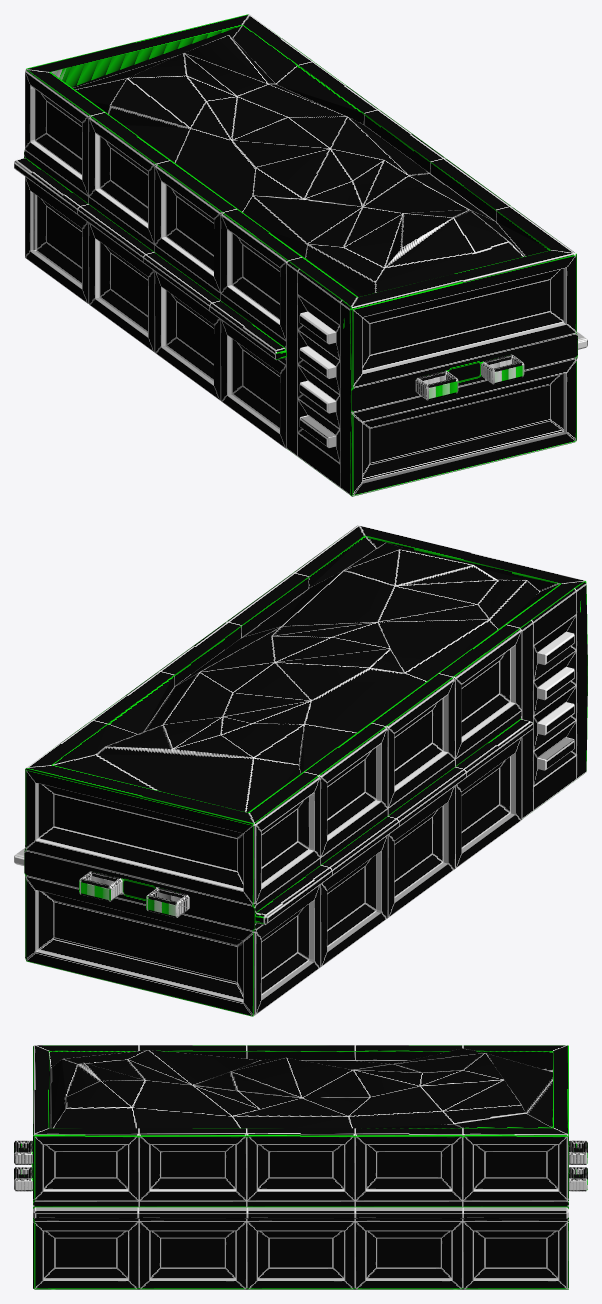
File: Rubbish Container.FBX
The picture shows the model from 3 angles, top to bottom: view 1: azimuth 30°, elevation 25°; view 2: azimuth 150°, elevation 25°; view 3: azimuth 270°, elevation 25°; orthographic projection. The views are drawn at different scales.
Visible parts, largest first — view 1: Box001; view 2: Box001; view 3: Box001.
Part boxes in pixels (bbox=[...]): Box001: bbox=[14, 14, 587, 496]; Box001: bbox=[14, 525, 587, 1016]; Box001: bbox=[14, 1045, 587, 1289].
Size of the model in its own units: 43.31 by 35.74 by 105.
